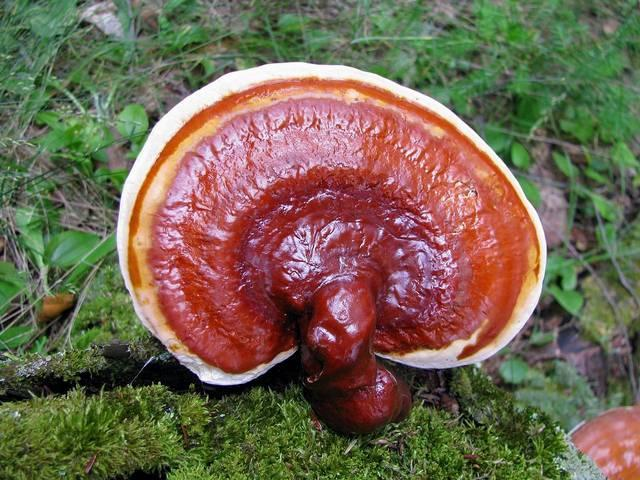Non-edible Mushroom: (114, 60, 548, 434)
